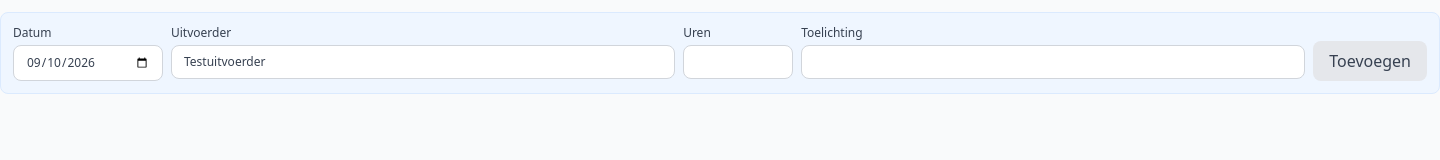
Scenario: ForecastEntryForm › reset het vastgelegde formulier en ververst na een succesvolle opslag
Type "2" into the number field labelled "Uren".
click(738, 62); type("2")  # box left=683, top=45, right=793, bottom=79
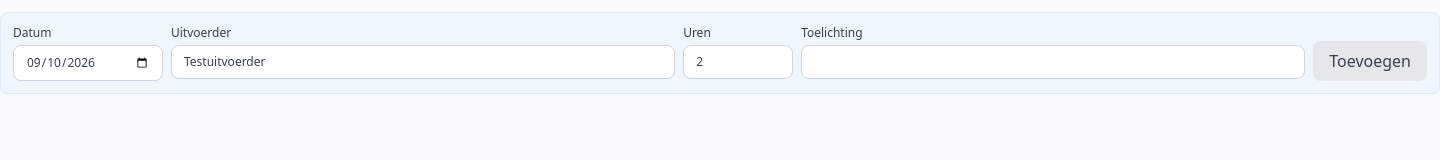
Type "Voorbereiding implementatie" into the field labelled "Toelichting".
click(1053, 62); type("Voorbereiding implementatie")  # box left=801, top=45, right=1305, bottom=79
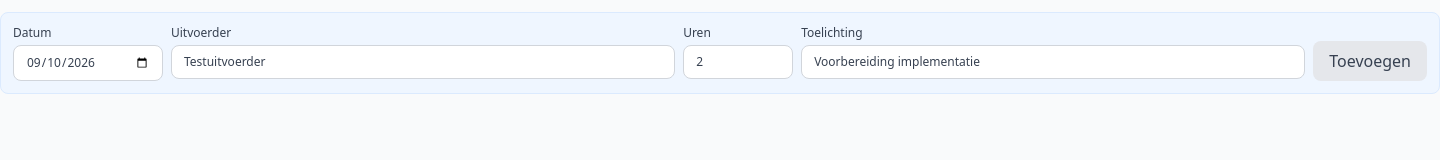
Click the button "Toevoegen".
click(1370, 61)  # box left=1313, top=41, right=1427, bottom=81
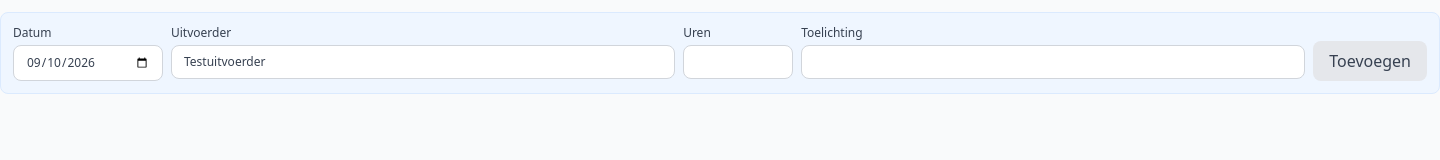
Expected: the date field labelled "Datum" holds "2026-09-10", left=13, top=45, right=163, bottom=81
Result: the number field labelled "Uren" is not empty at left=683, top=45, right=793, bottom=79
Result: the field labelled "Toelichting" is empty at left=801, top=45, right=1305, bottom=79
